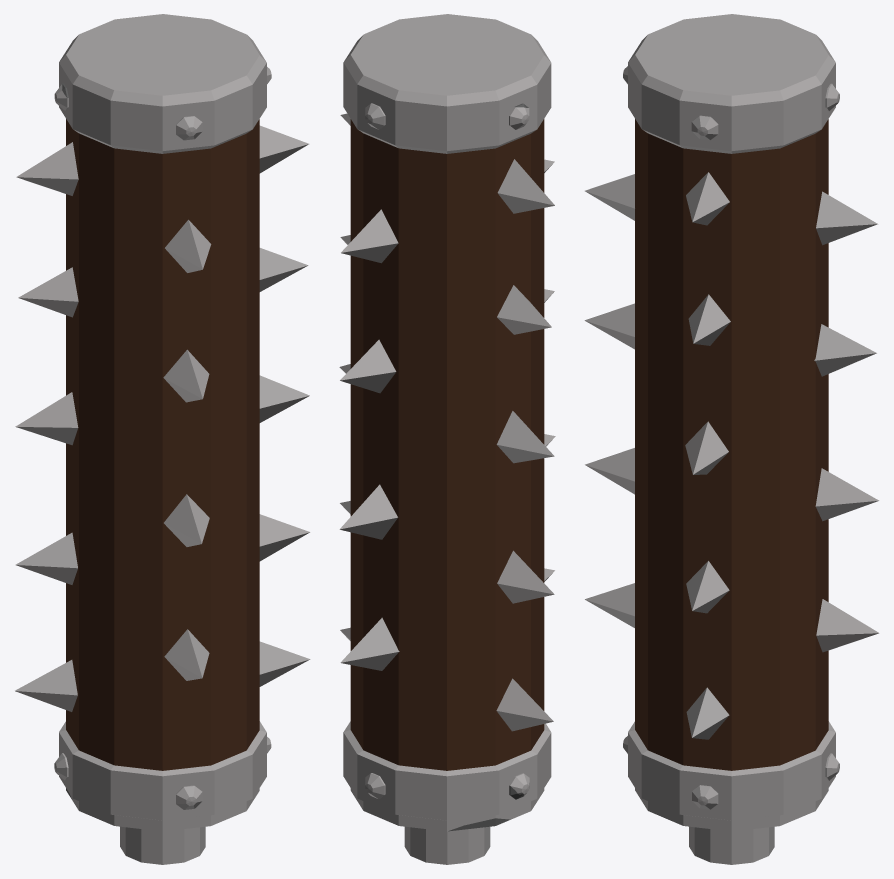
The model's file is SpinningBump.fbx.
3 views of the same model, side by side, from view 1: azimuth 30°, elevation 25°; view 2: azimuth 150°, elevation 25°; view 3: azimuth 270°, elevation 25° (orthographic).
Parts seen in each view (by area): view 1: SpinningBump; view 2: SpinningBump; view 3: SpinningBump.
Part boxes in pixels (x1,y1,x2,y2): SpinningBump: (15,14,310,864); SpinningBump: (339,14,555,864); SpinningBump: (584,14,879,864).
Bounding box in the file's own units: 66.4 × 197 × 66.54.
